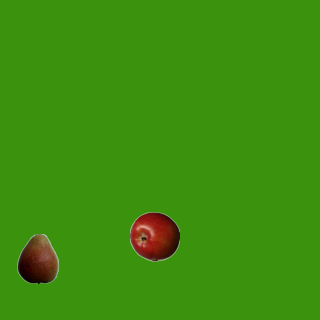Apple Braeburn: (129, 211, 179, 261)
Pear Forelle: (12, 233, 62, 283)
